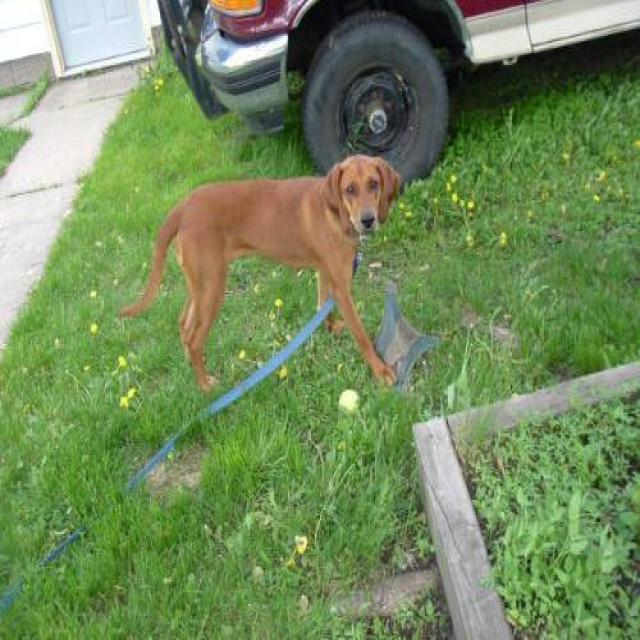dog: (116, 152, 402, 394)
